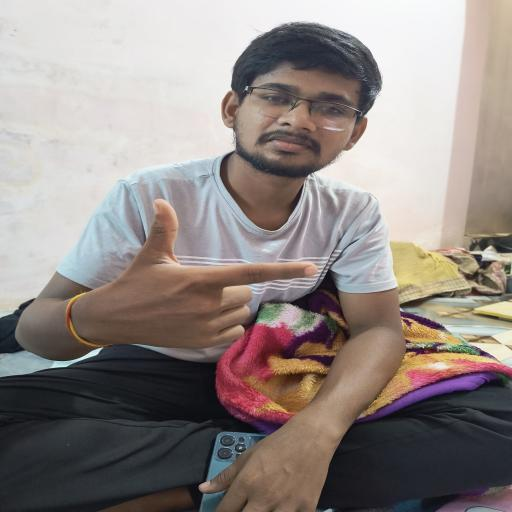OK: (91, 191, 340, 367)
